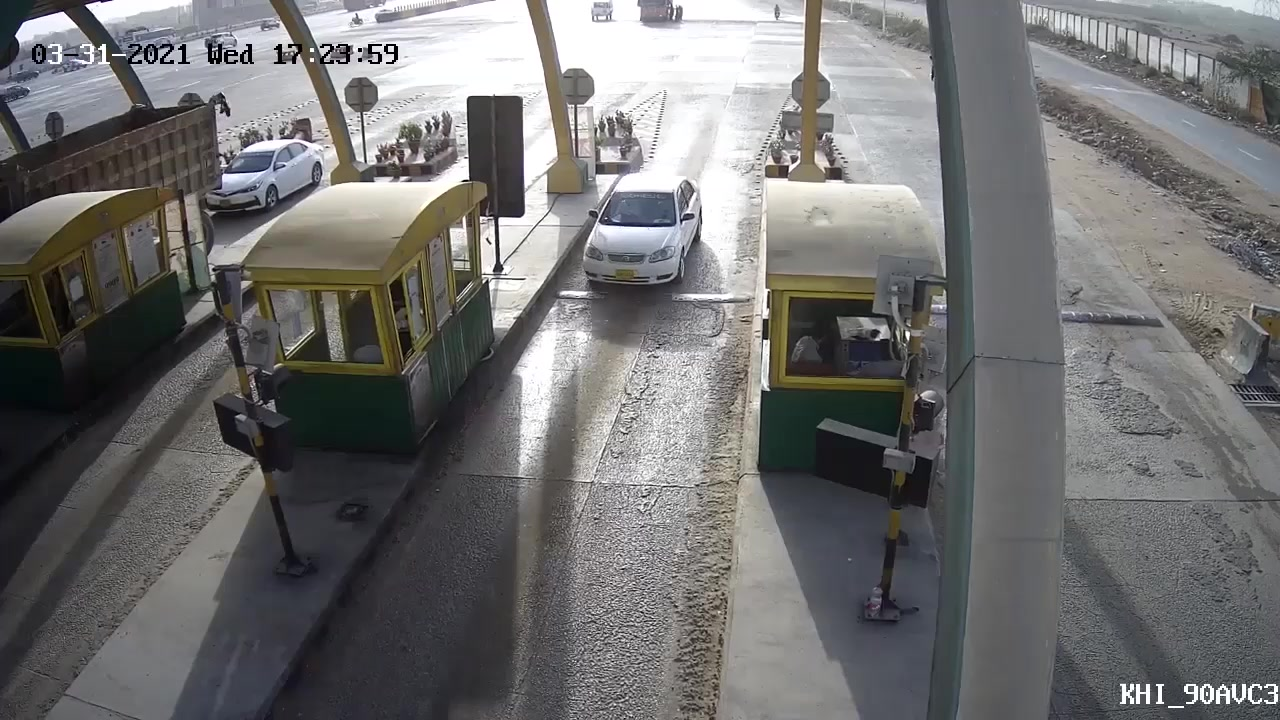F1: (568, 168, 708, 299)
